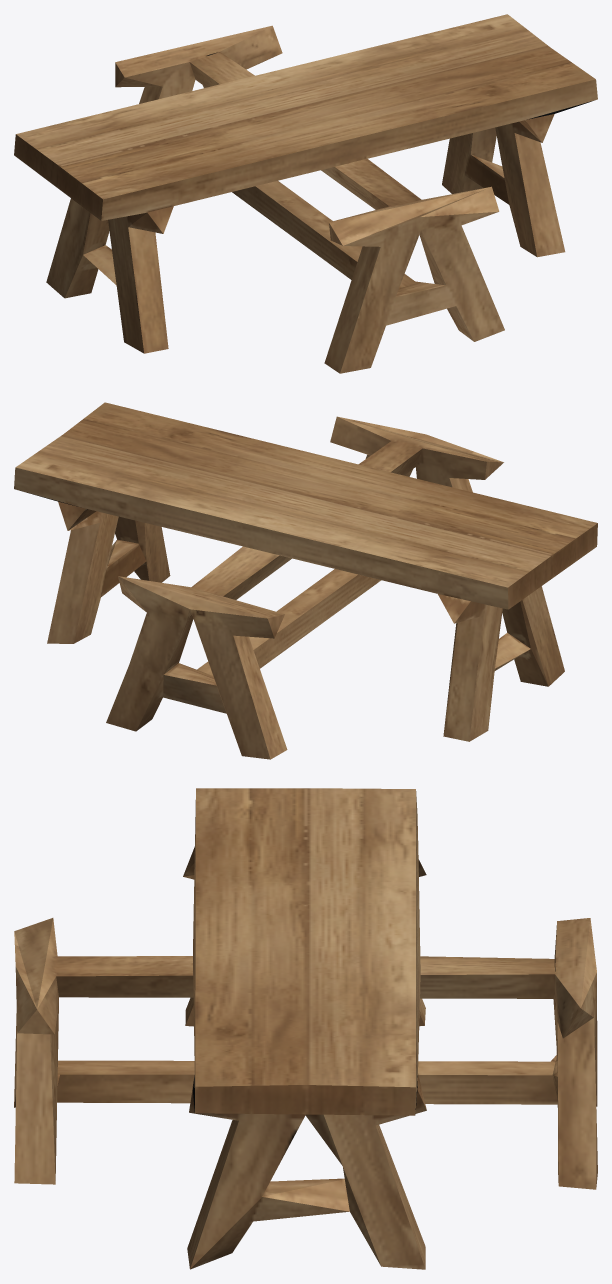
Rendered from bench_lod0.glb.
The picture shows the model from 3 angles, top to bottom: view 1: azimuth 30°, elevation 25°; view 2: azimuth 150°, elevation 25°; view 3: azimuth 270°, elevation 25°; orthographic projection. The views are drawn at different scales.
Visible parts, largest first — view 1: low; view 2: low; view 3: low.
Part boxes in pixels (x1=…): low: x1=14, y1=14, x2=597, y2=373; low: x1=14, y1=402, x2=597, y2=759; low: x1=14, y1=788, x2=597, y2=1269.
Size of the model in its own units: 1.99 by 0.6336 by 1.64.
Materials: 1 (1 with a texture image).
